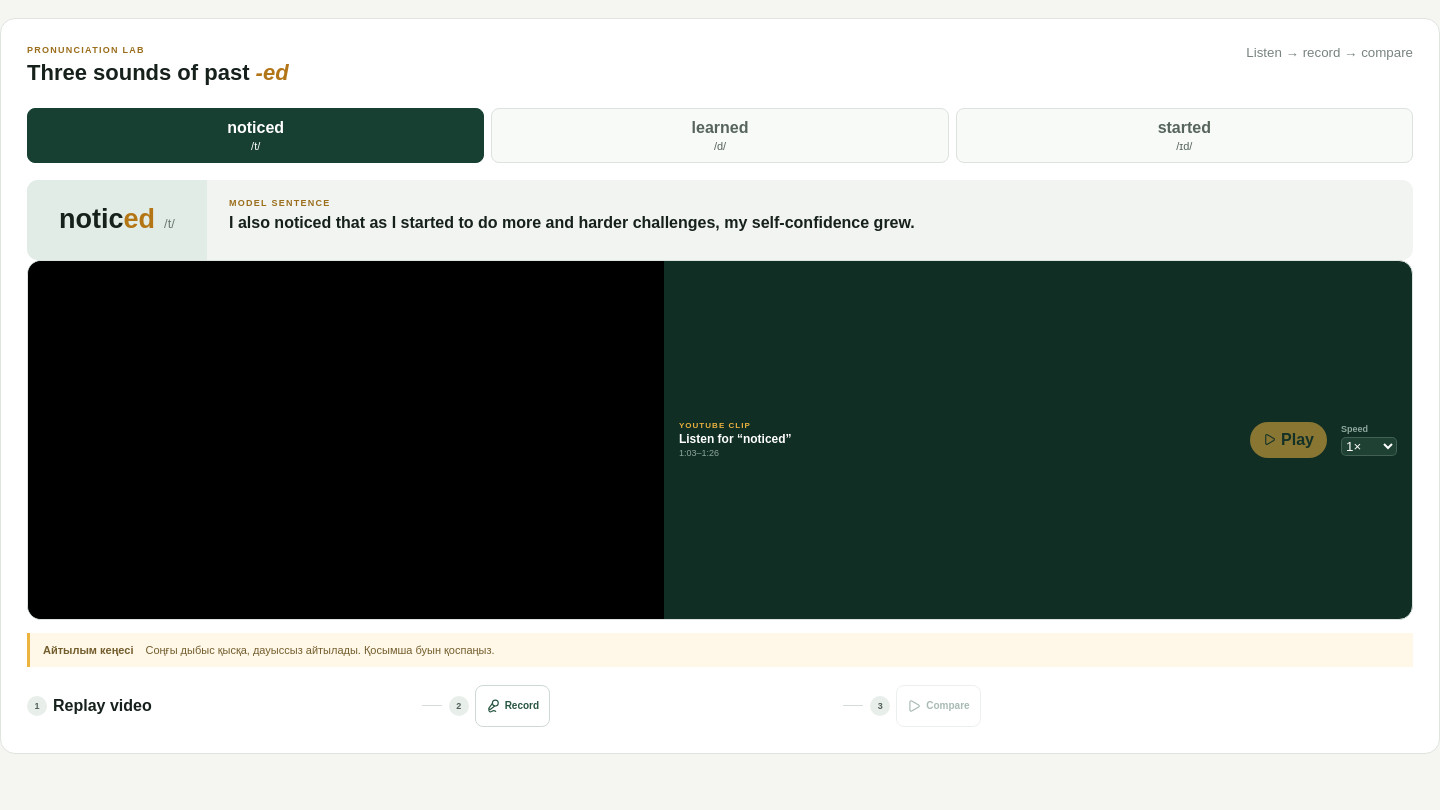
immersive activities › switches between localized pronunciation explanations
Click the button "learned /d/".
click(720, 136)  # box [491, 108, 949, 163]
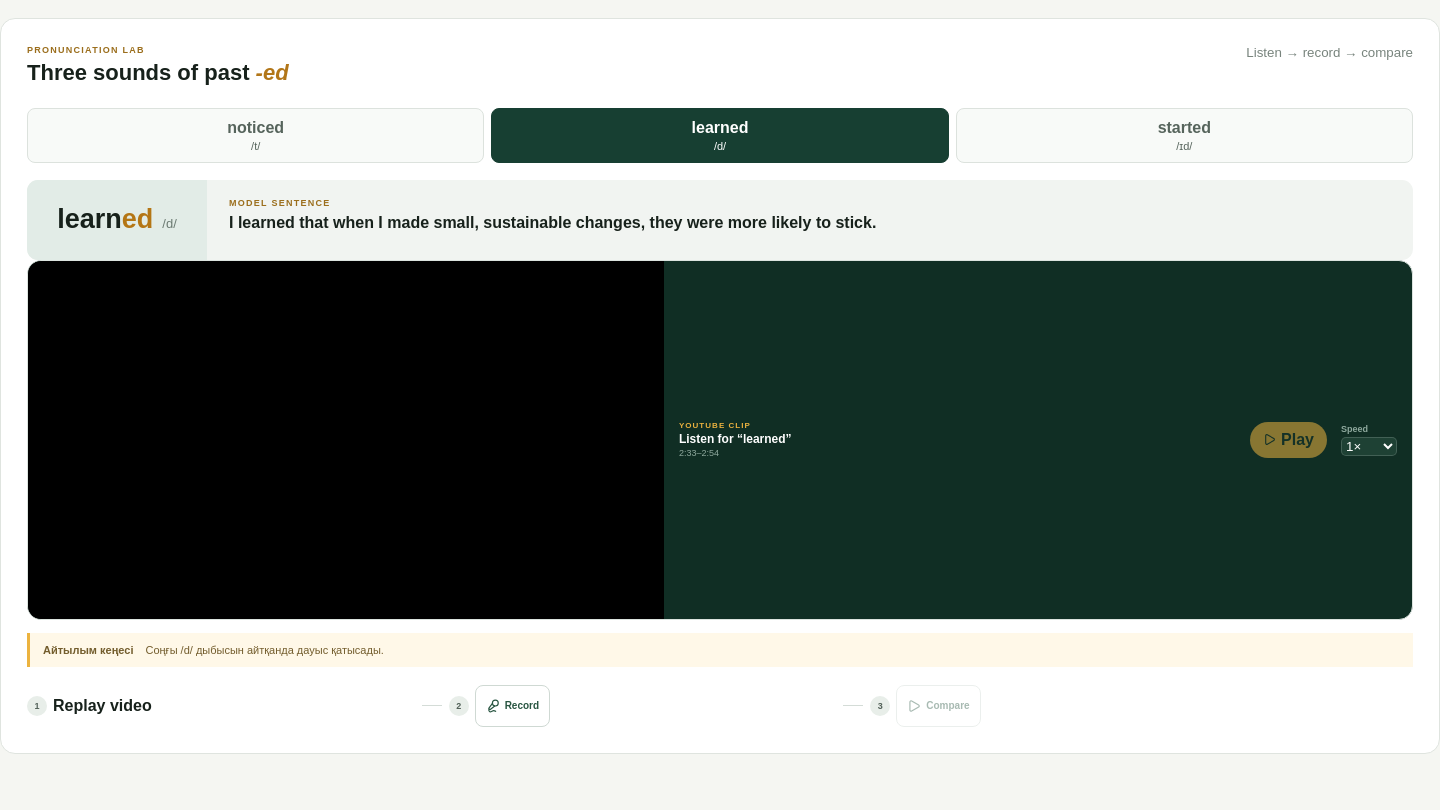
Expected: the text "small, sustainable changes" is shown, [229, 214, 876, 231]
Expected: the text "Соңғы /d/ дыбысын айтқанда дауыс қатысады." is shown, [146, 644, 384, 656]
